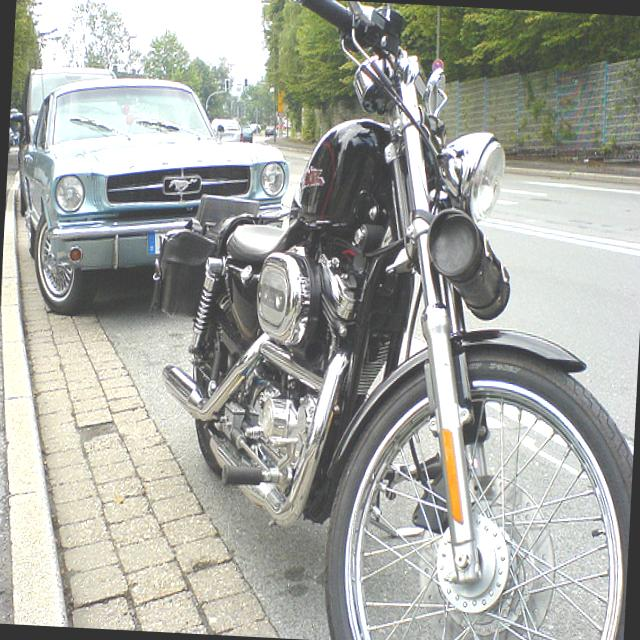Vehicle: (142, 0, 640, 640), (8, 62, 294, 320), (8, 62, 117, 168), (210, 118, 243, 135)
